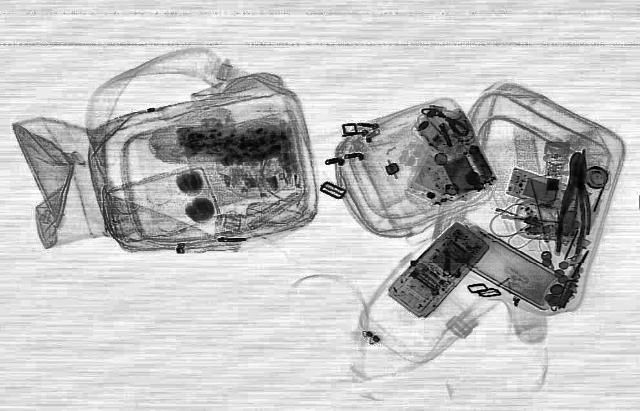Pliers: (552, 152, 594, 254), (552, 152, 594, 236)
